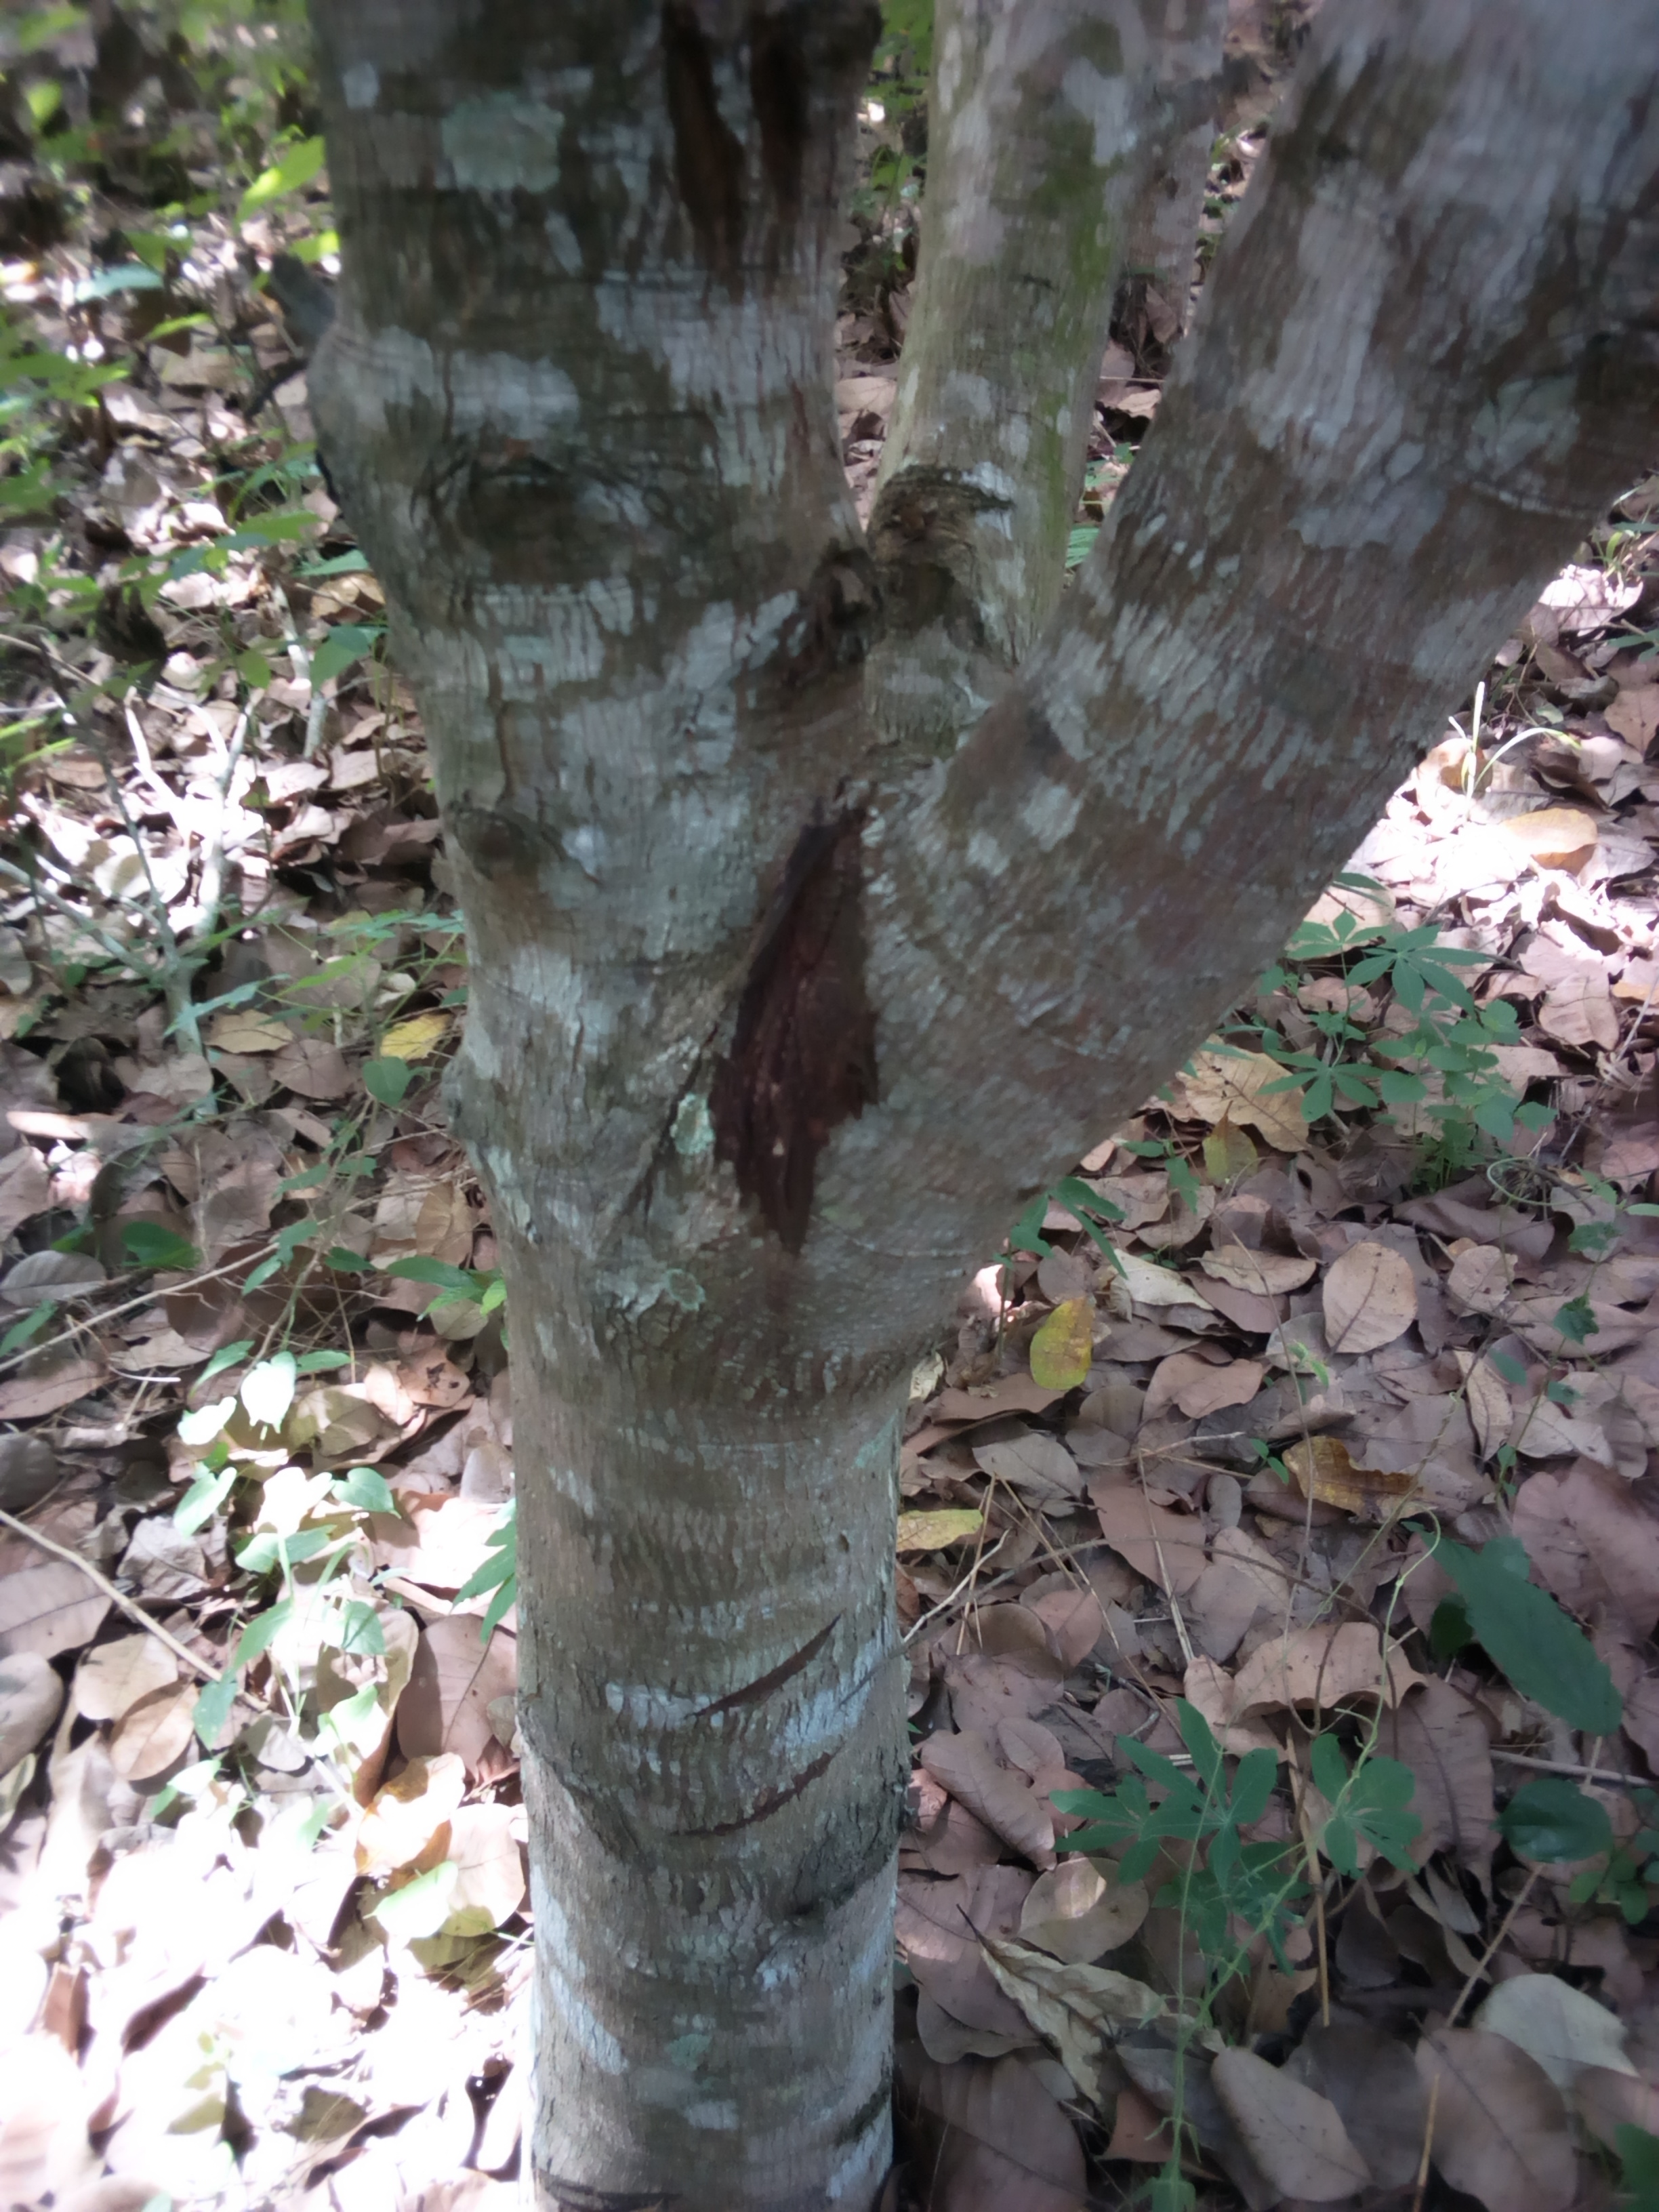Gommose: (714, 842, 880, 1238)
